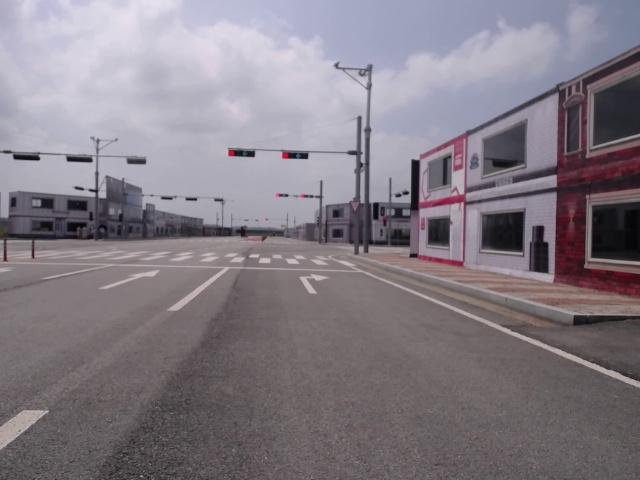left_green_4: (228, 149, 255, 158), (282, 152, 308, 160), (301, 193, 312, 199), (275, 193, 288, 197)
